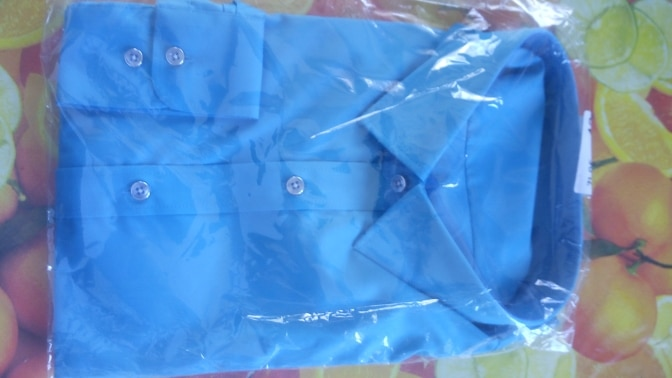shirts: (57, 11, 553, 343)
